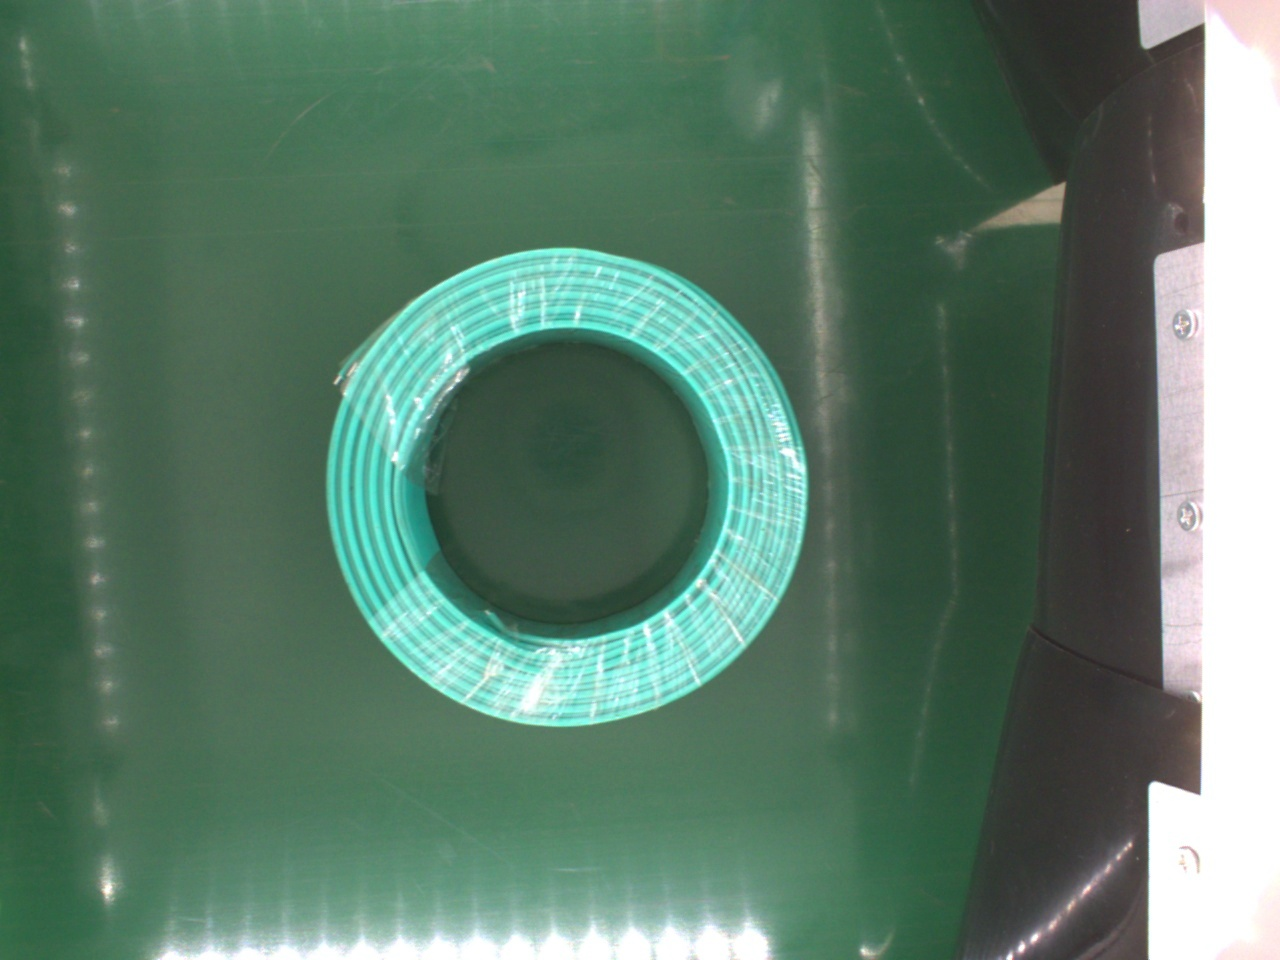green: (309, 245, 810, 735)
